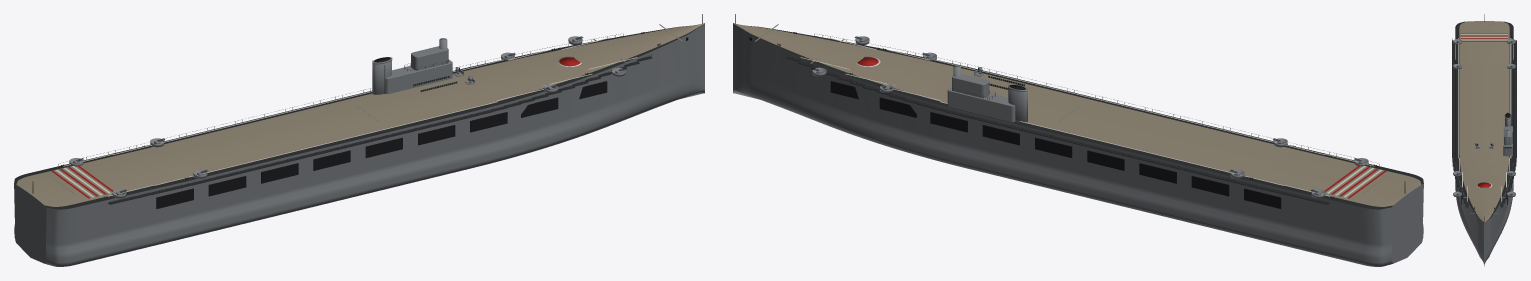
The model's file is akagi.glb.
3 views of the same model, side by side, from view 1: azimuth 30°, elevation 25°; view 2: azimuth 150°, elevation 25°; view 3: azimuth 270°, elevation 25° (orthographic). The views are drawn at different scales.
Parts seen in each view (by area): view 1: akagi; view 2: akagi; view 3: akagi.
Part boxes in pixels (x1,y1,x2,y2): akagi: (14,14,704,266); akagi: (733,14,1423,266); akagi: (1452,14,1516,266).
Bounding box in the file's own units: 261 × 36.5 × 34.71.
